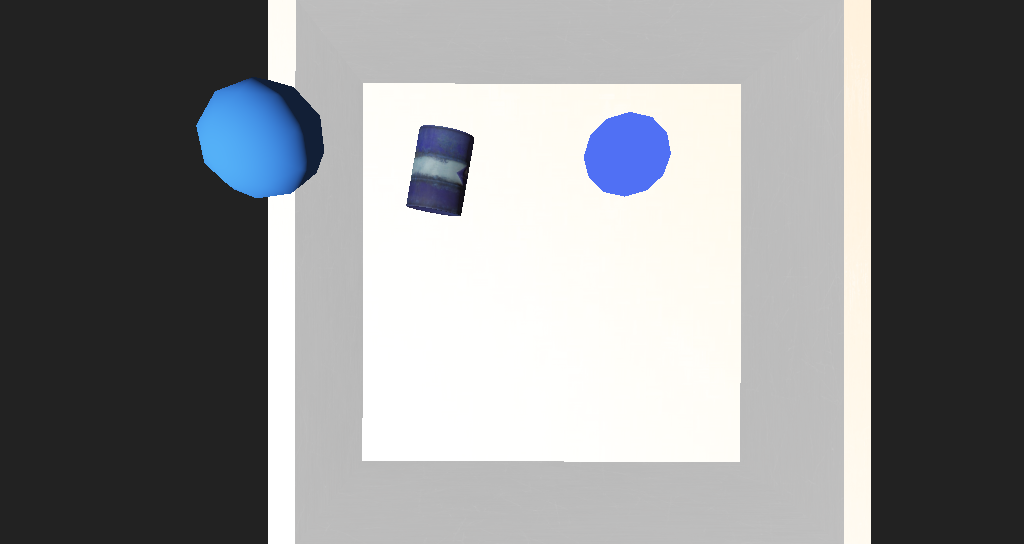cone: (387, 188, 448, 241)
cylinder: (525, 160, 593, 231)
sphere: (239, 172, 327, 229)
